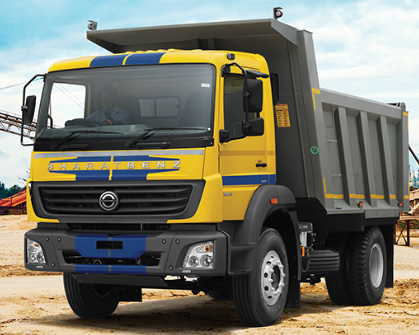truck: (18, 4, 414, 329)
